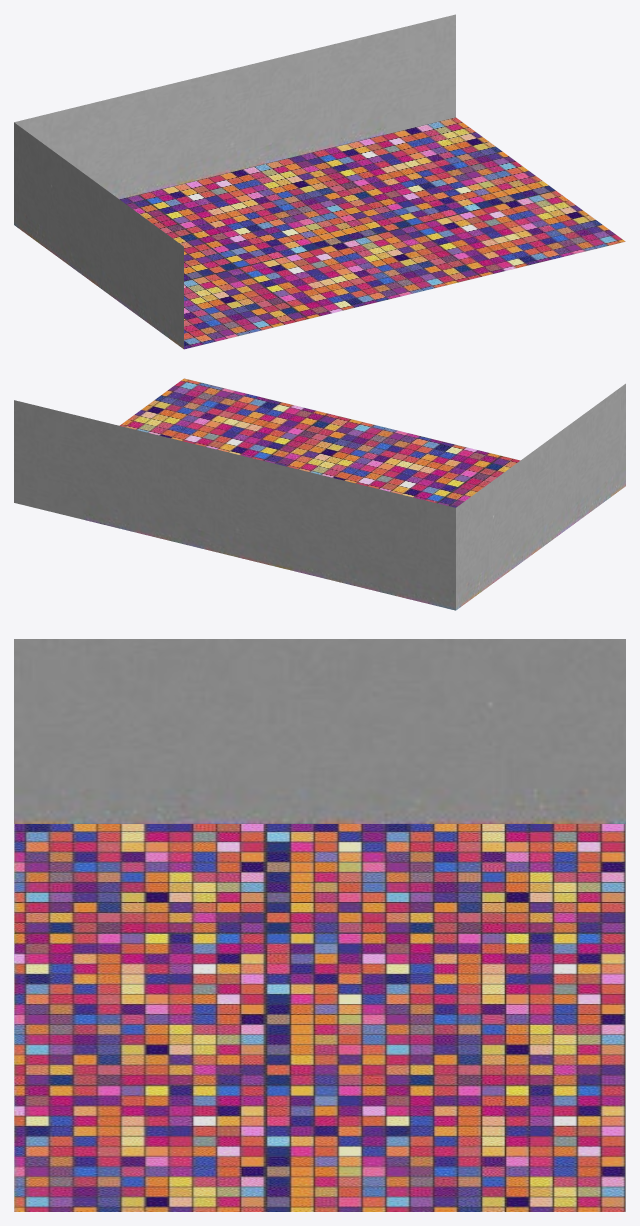
File: GrandmaRoom.glb
3 views of the same model, one above another, from view 1: azimuth 30°, elevation 25°; view 2: azimuth 150°, elevation 25°; view 3: azimuth 270°, elevation 25° (orthographic). The views are drawn at different scales.
Parts seen in each view (by area): view 1: Cube; view 2: Cube; view 3: Cube.
Boxes of the visible parts, box(x1,y1,x2,y2) form: Cube: box(14, 14, 625, 349); Cube: box(14, 378, 625, 610); Cube: box(14, 639, 625, 1211).
Size of the model in its own units: 9 by 2 by 6.
Materials: 1 (1 with a texture image).
